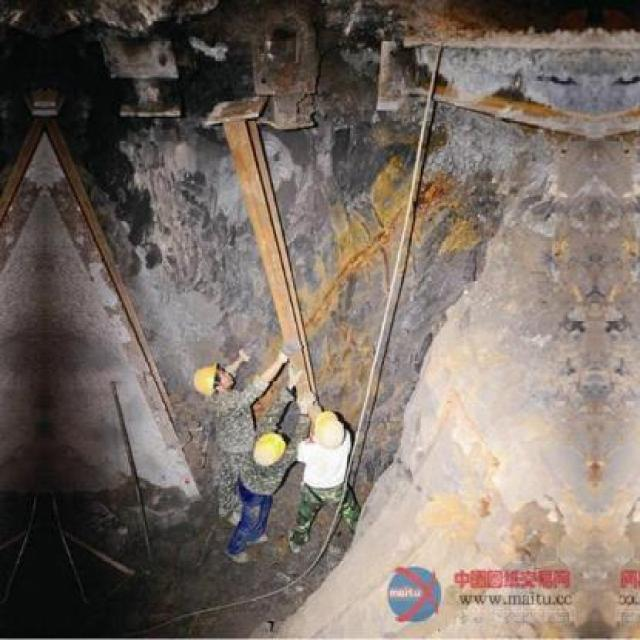helmet: (187, 361, 237, 399), (310, 406, 350, 452), (247, 430, 285, 472)
